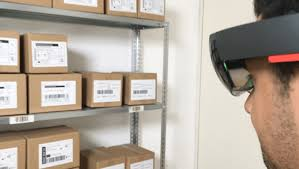hololens: (209, 16, 298, 96)
